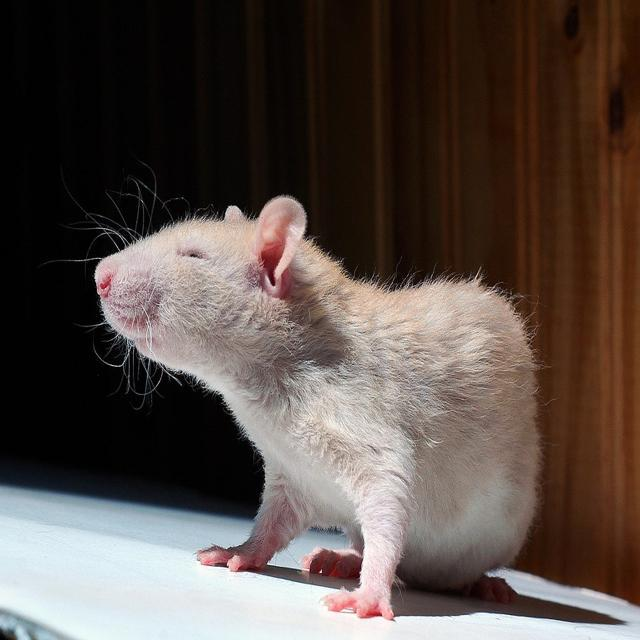rat: (91, 195, 538, 619)
